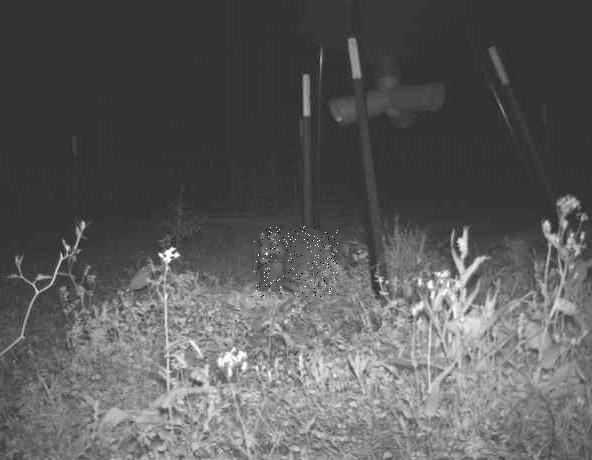Raccoon: (254, 227, 338, 298)
